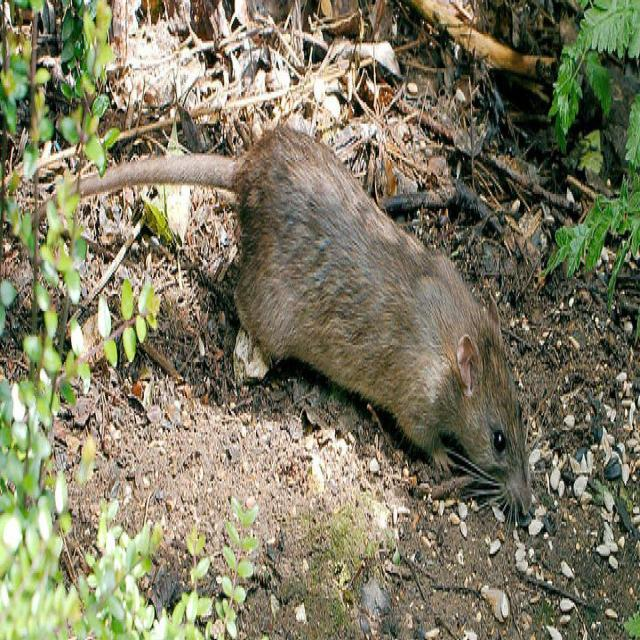rat: (76, 125, 531, 515)
